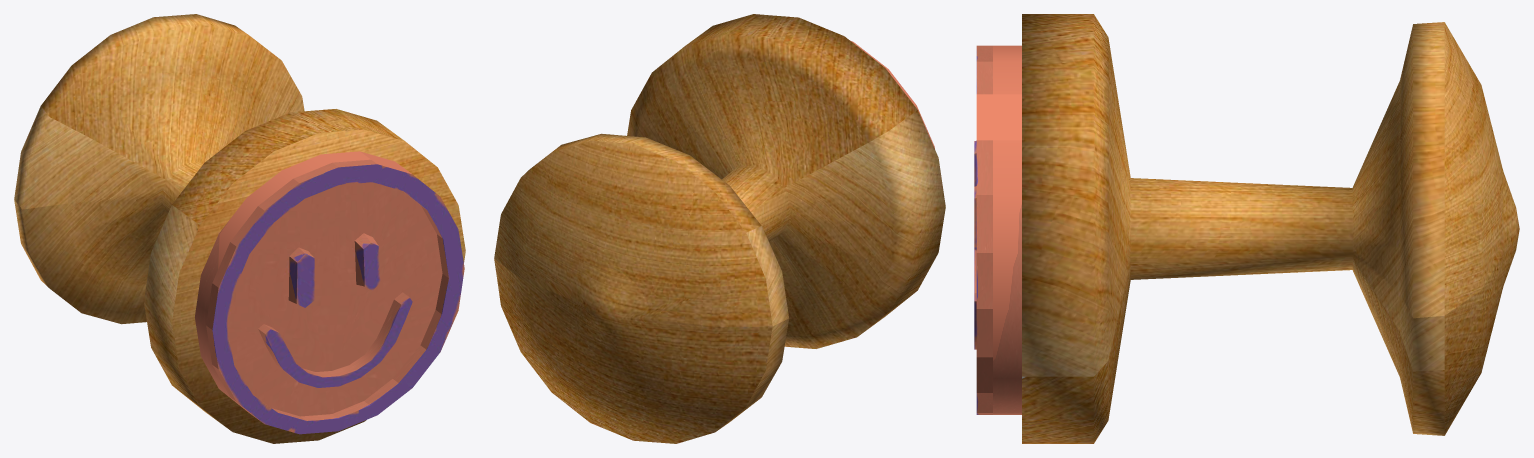
The model's file is Stempel.fbx.
The picture shows the model from 3 angles, left to right: view 1: azimuth 30°, elevation 25°; view 2: azimuth 150°, elevation 25°; view 3: azimuth 270°, elevation 25°; orthographic projection. The views are drawn at different scales.
Visible parts, largest first — view 1: pCylinder1, pCylinder2; view 2: pCylinder1; view 3: pCylinder1, pCylinder2.
Boxes of the visible parts, box(x1,y1,x2,y2) form: pCylinder1: box(14, 14, 465, 443); pCylinder2: box(195, 151, 464, 434); pCylinder1: box(494, 14, 945, 443); pCylinder1: box(1022, 14, 1519, 443); pCylinder2: box(974, 45, 1021, 414).
Size of the model in its own units: 5.78 by 5.78 by 7.28.
